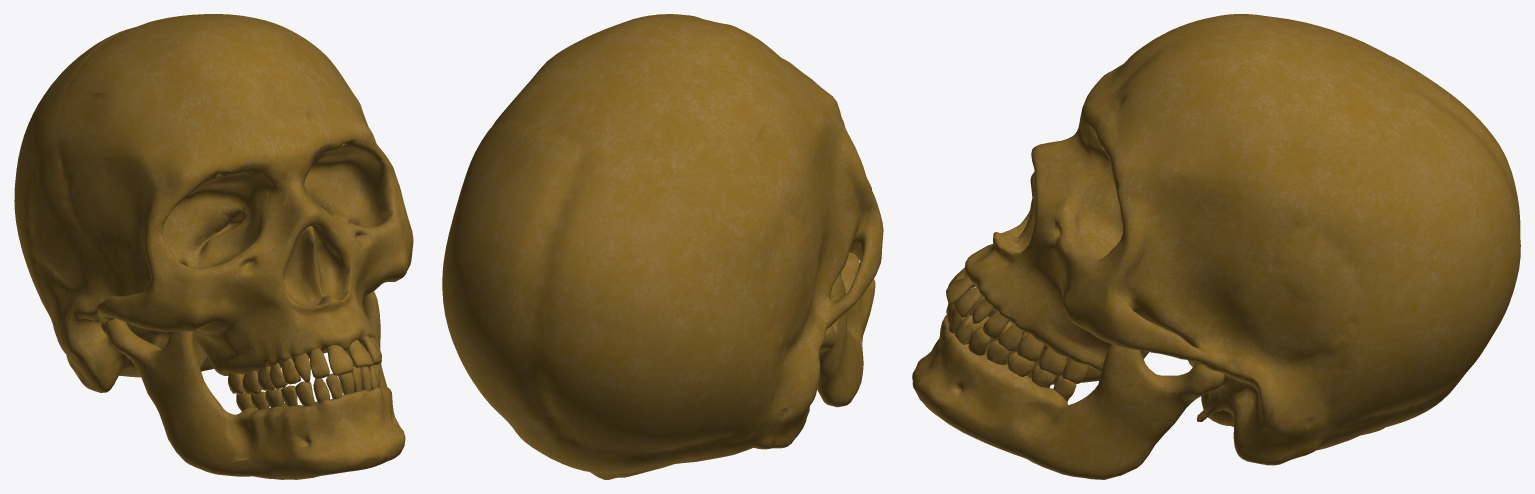
The picture shows the model from 3 angles, left to right: view 1: azimuth 30°, elevation 25°; view 2: azimuth 150°, elevation 25°; view 3: azimuth 270°, elevation 25°; orthographic projection. The views are drawn at different scales.
Parts seen in each view (by area): view 1: meshId0_name_2, meshId1_name_3; view 2: meshId0_name_2; view 3: meshId0_name_2, meshId1_name_3.
Part boxes in pixels (box(x1,y1,x2,y2)): meshId0_name_2: box(14, 14, 413, 479); meshId1_name_3: box(281, 336, 381, 406); meshId0_name_2: box(442, 14, 883, 479); meshId0_name_2: box(912, 14, 1520, 479); meshId1_name_3: box(954, 285, 1056, 387).
Bounding box in the file's own units: 1.22 × 1.46 × 2.
Materials: 2 (2 with a texture image).
